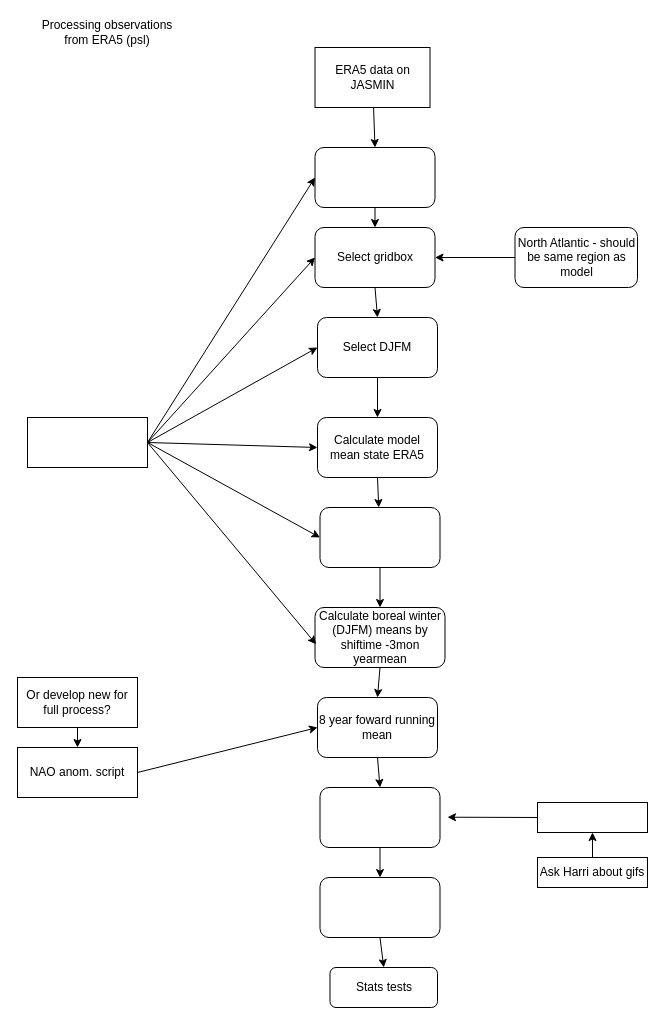
Some shapes in this 665 by 1025 pixel diagram are drawn without their labels. The centre of each missing label's shape, as x and y in pixels:
Compare to model output: (379,907)
Plot GIF of psl 8-yr RM evolution 1960-2014: (379,817)
Plotting function: (592,817)
Remap to 2.5 degree grid spacing: (374,177)
Select gridbox script: (87,442)
Subtract model mean state to give anomalies: (379,537)
